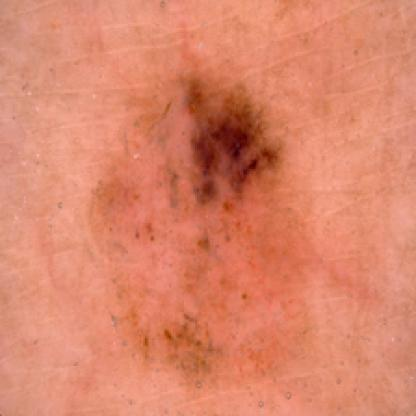malignant: (176, 65, 278, 204)
